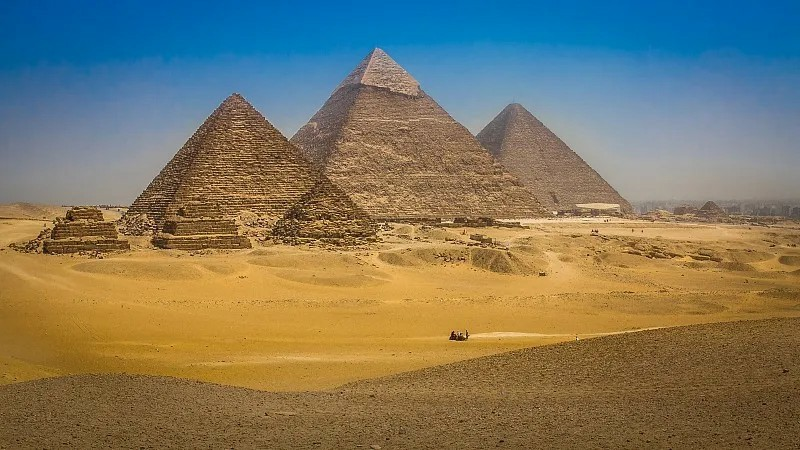Pyramid: (290, 45, 555, 218), (124, 95, 318, 217), (476, 102, 635, 219), (267, 183, 378, 239), (152, 197, 252, 250), (33, 207, 131, 254)
